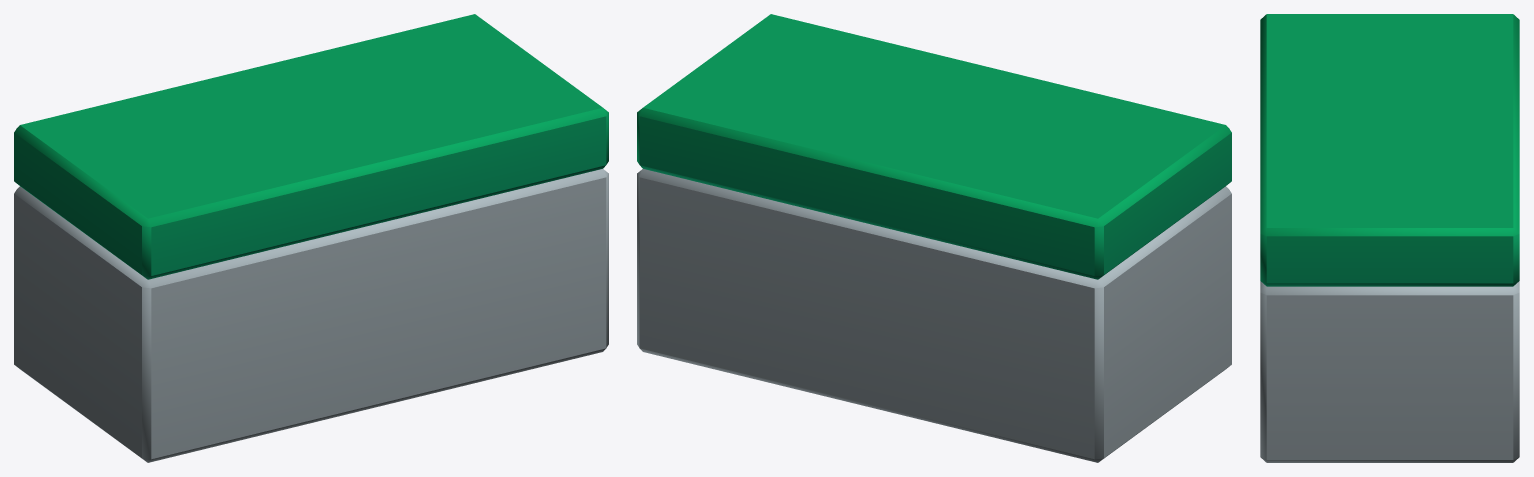
Rendered from platform_4x2x2_green.glb.
3 views of the same model, side by side, from view 1: azimuth 30°, elevation 25°; view 2: azimuth 150°, elevation 25°; view 3: azimuth 270°, elevation 25° (orthographic). The views are drawn at different scales.
Parts seen in each view (by area): view 1: platform_4x2x2_green; view 2: platform_4x2x2_green; view 3: platform_4x2x2_green.
Boxes of the visible parts, bbox=[...] form: platform_4x2x2_green: bbox=[14, 14, 608, 462]; platform_4x2x2_green: bbox=[637, 14, 1231, 462]; platform_4x2x2_green: bbox=[1260, 14, 1519, 462].
Size of the model in its own units: 4 by 2 by 2.
1 material, 1 textured.
